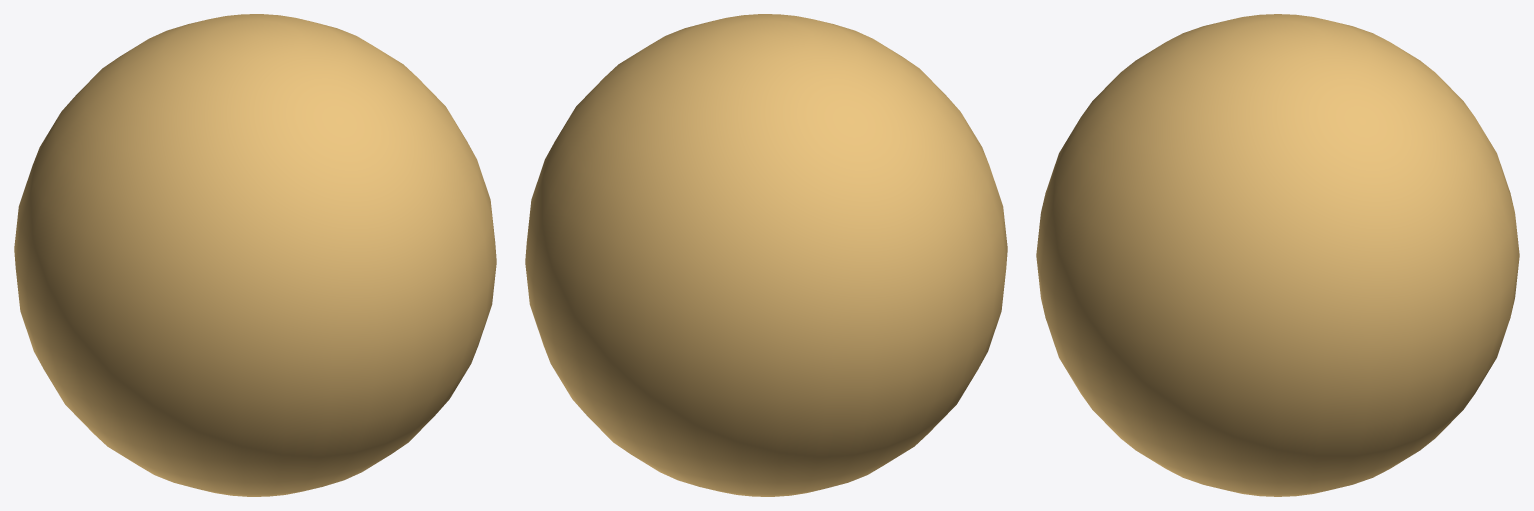
The model's file is Powerup.fbx.
3 renders of one model, left to right at view 1: azimuth 30°, elevation 25°; view 2: azimuth 150°, elevation 25°; view 3: azimuth 270°, elevation 25°, orthographic.
Parts seen in each view (by area): view 1: Powerup; view 2: Powerup; view 3: Powerup.
Part boxes in pixels (x1,y1,x2,y2): Powerup: [14, 14, 496, 496]; Powerup: [525, 14, 1007, 496]; Powerup: [1036, 14, 1519, 496].
Size of the model in its own units: 2 by 2 by 2.
